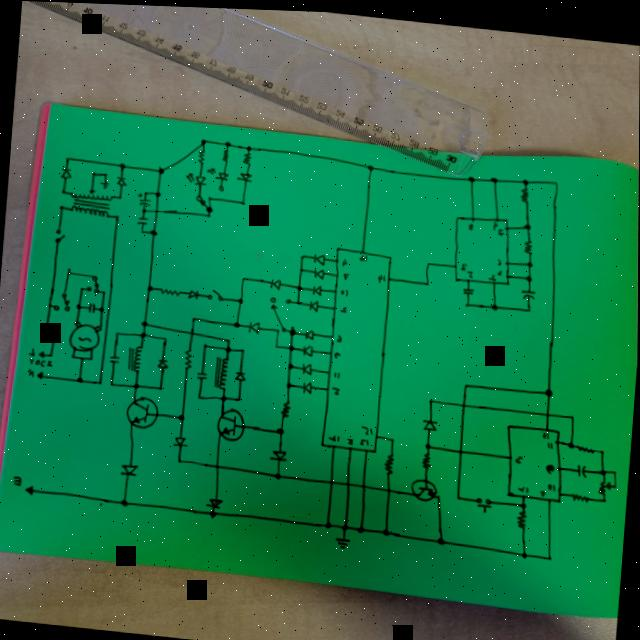capacitor: (575, 457, 590, 475), (520, 283, 537, 298), (137, 191, 152, 205), (108, 351, 121, 365), (197, 367, 209, 380), (137, 214, 150, 226), (87, 299, 98, 312), (462, 282, 475, 292)
crossover: (213, 460, 222, 469), (460, 397, 468, 406), (458, 444, 465, 451), (189, 327, 196, 334), (328, 476, 335, 482), (386, 484, 393, 490), (361, 480, 367, 486), (346, 478, 352, 484), (545, 407, 551, 413), (155, 206, 160, 212)
diode: (206, 165, 231, 180), (186, 170, 208, 185), (120, 461, 141, 476), (235, 168, 255, 183), (422, 414, 439, 430), (269, 446, 288, 460), (301, 357, 316, 374), (172, 433, 190, 447), (206, 495, 225, 508), (156, 354, 171, 370), (233, 365, 248, 381), (268, 274, 283, 289), (248, 317, 262, 332), (302, 341, 316, 355), (313, 264, 327, 278), (311, 281, 324, 296), (302, 377, 315, 392), (59, 166, 74, 179), (313, 250, 327, 263), (114, 174, 129, 186), (309, 296, 321, 309), (188, 286, 200, 299), (304, 325, 316, 338)
ground: (335, 532, 352, 547), (99, 179, 110, 188)
inductor: (214, 353, 230, 388), (127, 343, 145, 372)
junction: (544, 382, 555, 394), (366, 159, 377, 169), (490, 171, 500, 181), (521, 545, 530, 556), (381, 524, 392, 533), (526, 255, 535, 265), (437, 532, 446, 542), (178, 410, 187, 420), (491, 298, 500, 308), (357, 521, 367, 530), (289, 324, 298, 334), (525, 269, 534, 279), (567, 436, 577, 445), (523, 218, 533, 227), (521, 173, 531, 182), (121, 497, 130, 507), (76, 374, 85, 383), (277, 424, 286, 433), (223, 137, 232, 146), (133, 380, 142, 389), (467, 170, 476, 179), (552, 174, 561, 183), (140, 318, 149, 327), (288, 340, 297, 349), (210, 508, 219, 517), (119, 160, 127, 169), (146, 282, 154, 291), (285, 377, 293, 386), (463, 297, 471, 305), (157, 165, 165, 173), (97, 377, 105, 385), (140, 329, 148, 337), (296, 281, 304, 289), (287, 358, 294, 367), (325, 519, 334, 526), (234, 318, 241, 326), (238, 294, 245, 302), (570, 409, 577, 416), (547, 550, 554, 557), (158, 382, 165, 389), (197, 391, 204, 398), (151, 227, 157, 235), (425, 276, 431, 283), (115, 212, 121, 219), (109, 379, 115, 386), (66, 267, 72, 274), (156, 189, 162, 196), (203, 340, 209, 347), (295, 297, 302, 303), (276, 325, 282, 332), (65, 155, 72, 161), (48, 301, 54, 308), (201, 136, 207, 143), (520, 498, 527, 504), (178, 456, 184, 462), (428, 394, 434, 400), (463, 379, 469, 385), (241, 273, 247, 279), (241, 198, 247, 204), (600, 444, 606, 450), (456, 491, 462, 497), (426, 257, 432, 263), (59, 204, 65, 210), (192, 314, 198, 320), (390, 433, 396, 439), (44, 326, 50, 332), (163, 335, 169, 341), (221, 393, 227, 399), (226, 335, 232, 341), (76, 302, 82, 308), (99, 305, 105, 311), (48, 351, 54, 357), (246, 143, 252, 149), (226, 344, 232, 350), (276, 470, 282, 476), (343, 522, 349, 528), (426, 439, 432, 445), (600, 464, 606, 470), (436, 490, 442, 496), (116, 329, 121, 336), (300, 251, 306, 256), (61, 187, 66, 193), (92, 170, 97, 176), (142, 206, 148, 211), (300, 264, 305, 269), (118, 193, 122, 199), (80, 285, 84, 291), (54, 327, 58, 333), (237, 395, 243, 399), (206, 212, 211, 216), (613, 464, 617, 469), (104, 172, 108, 176), (103, 289, 107, 293), (141, 228, 145, 232), (242, 346, 246, 350), (276, 342, 280, 346), (614, 479, 618, 483), (603, 494, 607, 498), (143, 189, 147, 193)
resistor: (182, 346, 196, 369), (160, 284, 182, 296), (384, 451, 396, 472), (597, 474, 612, 490), (517, 505, 528, 526), (280, 397, 292, 416), (422, 448, 433, 466), (519, 182, 530, 200), (572, 488, 591, 498), (523, 235, 535, 250), (196, 148, 207, 164), (242, 150, 253, 164), (578, 440, 595, 449), (222, 145, 231, 161)
switch: (267, 290, 292, 330), (195, 181, 227, 212), (53, 290, 74, 312), (476, 491, 495, 509), (87, 274, 101, 293), (206, 286, 225, 299), (52, 226, 67, 242)
terminal: (24, 483, 36, 496), (37, 348, 46, 358), (37, 369, 45, 379)
text: (29, 356, 53, 367), (545, 457, 556, 470), (328, 430, 342, 440), (361, 422, 375, 432), (541, 426, 552, 438), (518, 480, 531, 490), (359, 434, 372, 444), (13, 473, 23, 486), (514, 449, 525, 460), (340, 284, 351, 295), (466, 217, 476, 228), (339, 301, 349, 312), (487, 268, 498, 278), (377, 270, 386, 281), (335, 330, 344, 341), (547, 434, 556, 445), (332, 367, 341, 377), (360, 250, 369, 260), (341, 254, 350, 264), (342, 268, 351, 278), (491, 216, 499, 227), (332, 384, 341, 393), (28, 346, 36, 356), (27, 367, 35, 377), (461, 257, 469, 267), (497, 253, 505, 262), (466, 266, 475, 274), (548, 479, 556, 487), (347, 434, 355, 442), (498, 224, 505, 233), (497, 265, 503, 272), (334, 349, 341, 355), (541, 484, 547, 491)
transformer: (69, 186, 113, 218)
transistor: (124, 393, 162, 428), (217, 404, 247, 440), (411, 475, 440, 499)
